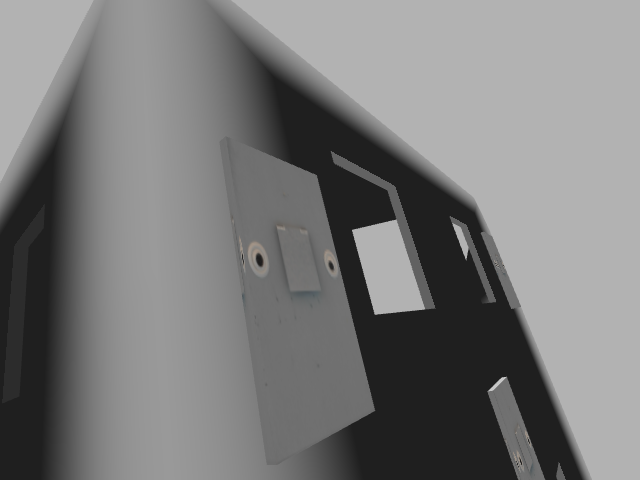facade: (244, 224, 341, 296)
